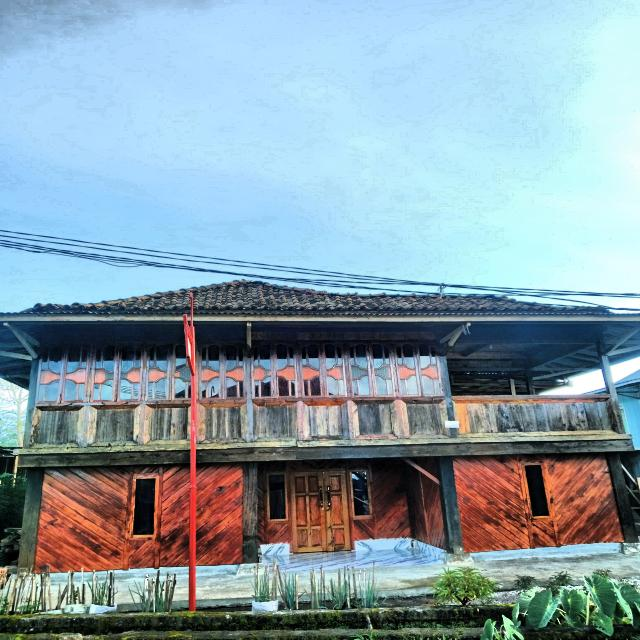column: (605, 452, 640, 543), (17, 467, 44, 574), (436, 455, 462, 554), (243, 462, 258, 563)
door: (289, 471, 352, 553)
ornamen: (452, 398, 620, 438), (87, 404, 140, 447), (30, 406, 84, 448), (199, 402, 247, 443), (401, 400, 451, 439), (352, 400, 400, 440), (144, 404, 190, 445), (252, 401, 298, 441), (303, 401, 350, 440)
roof: (0, 280, 640, 389)
wall: (252, 331, 452, 448), (29, 330, 191, 455), (259, 458, 446, 553), (451, 452, 625, 553), (34, 464, 190, 574), (195, 331, 247, 450), (195, 462, 243, 565)
window: (35, 342, 90, 403), (90, 342, 143, 402), (394, 342, 444, 397), (299, 342, 348, 398), (145, 342, 191, 401), (346, 343, 396, 397), (199, 343, 246, 400), (251, 343, 298, 399), (129, 476, 159, 538), (521, 463, 553, 519), (349, 470, 373, 518), (266, 472, 288, 522)
